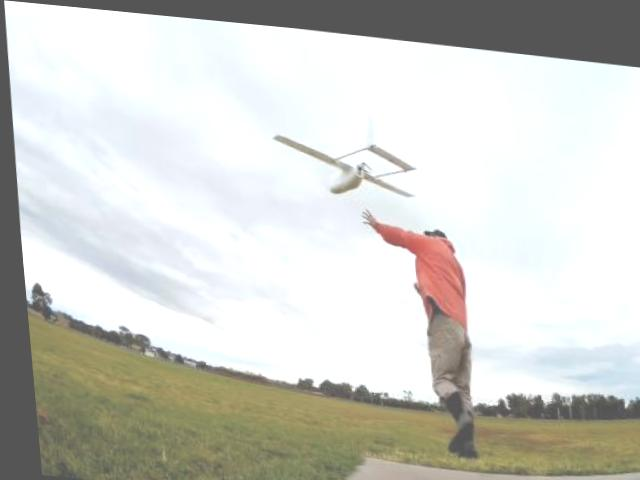uav: (265, 94, 425, 198)
